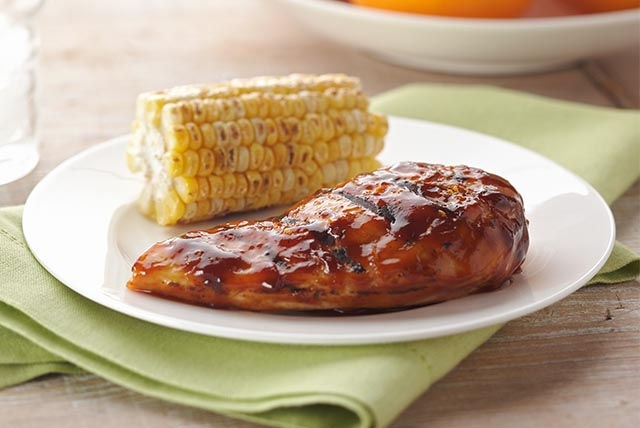background: (125, 48, 529, 208)
